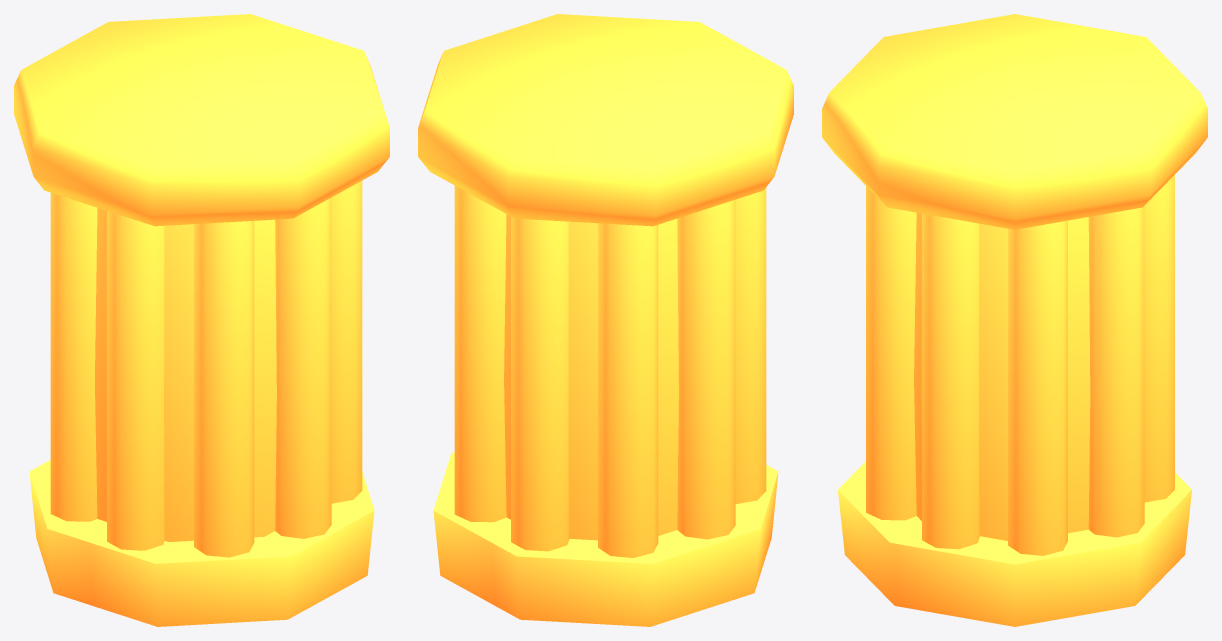
File: gold_grip_011.glb
The picture shows the model from 3 angles, left to right: view 1: azimuth 30°, elevation 25°; view 2: azimuth 150°, elevation 25°; view 3: azimuth 270°, elevation 25°; orthographic projection.
Visible parts, largest first — view 1: gold_grip_011; view 2: gold_grip_011; view 3: gold_grip_011.
Boxes of the visible parts, x1,y1,x2,y2 form: gold_grip_011: [14, 14, 389, 626]; gold_grip_011: [418, 14, 793, 626]; gold_grip_011: [822, 14, 1207, 626].
Bounding box in the file's own units: 2.5 × 3.31 × 2.5.
Materials: 1 (1 with a texture image).
